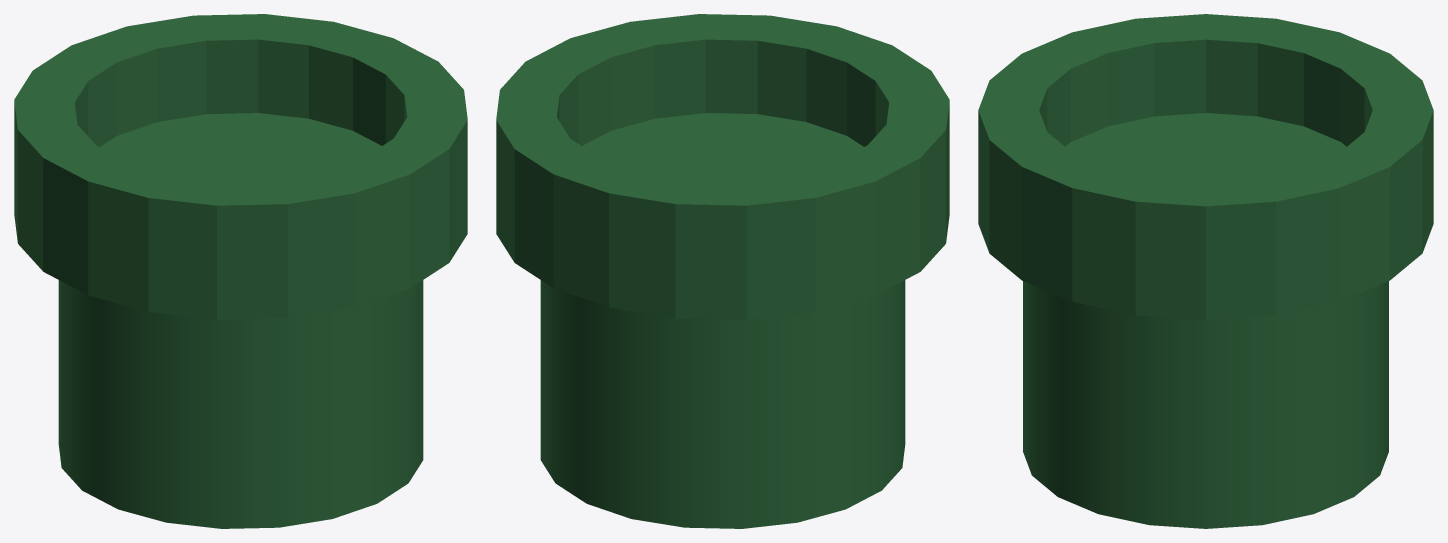
File: Pipe Bumper.fbx
3 renders of one model, left to right at view 1: azimuth 30°, elevation 25°; view 2: azimuth 150°, elevation 25°; view 3: azimuth 270°, elevation 25°, orthographic.
Parts seen in each view (by area): view 1: pCylinder4; view 2: pCylinder4; view 3: pCylinder4.
Boxes of the visible parts, left/top/right/bottom form: pCylinder4: left=14, top=14, right=467, bottom=528; pCylinder4: left=496, top=14, right=949, bottom=528; pCylinder4: left=978, top=14, right=1433, bottom=528.
Bounding box in the file's own units: 0.3191 × 0.264 × 0.3191.
